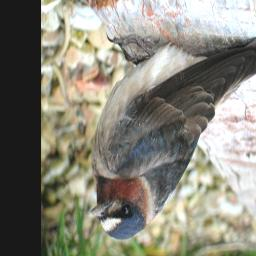Swallow: (84, 18, 256, 245)
